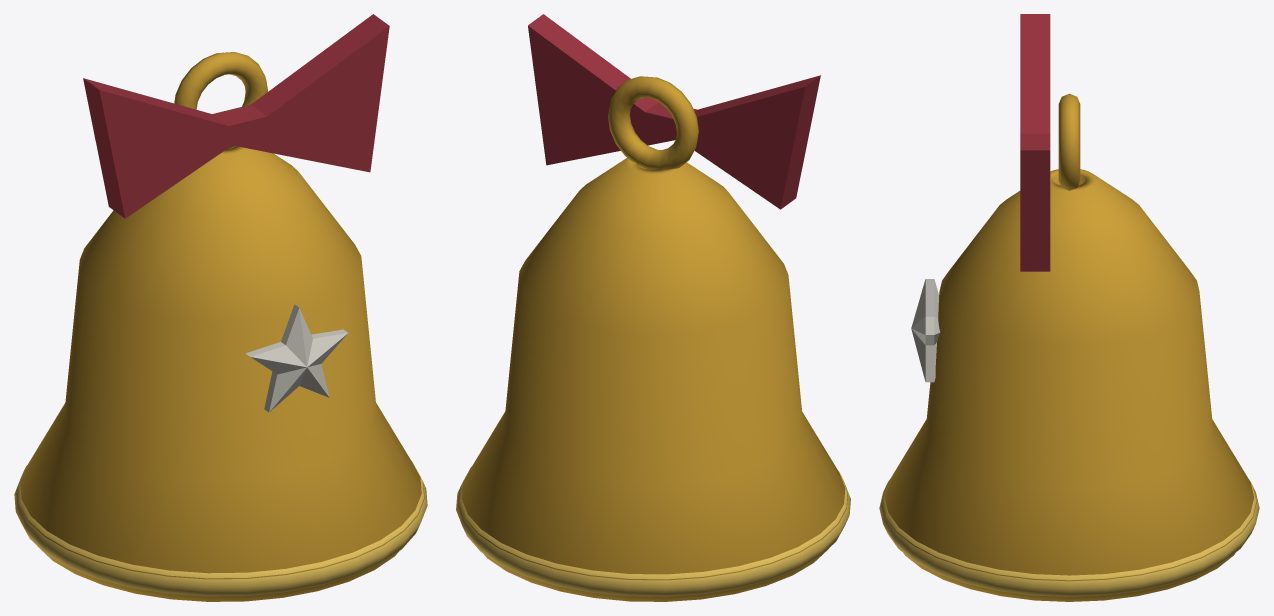
The model's file is acc_awake_bell.fbx.
3 renders of one model, left to right at view 1: azimuth 30°, elevation 25°; view 2: azimuth 150°, elevation 25°; view 3: azimuth 270°, elevation 25°, orthographic. The views are drawn at different scales.
Visible parts, largest first — view 1: acc_awake_bell; view 2: acc_awake_bell; view 3: acc_awake_bell.
Boxes of the visible parts, x1,y1,x2,y2 form: acc_awake_bell: (14, 14, 427, 601); acc_awake_bell: (456, 14, 850, 601); acc_awake_bell: (879, 14, 1259, 601).
Bounding box in the file's own units: 0.278 × 0.39 × 0.278.
